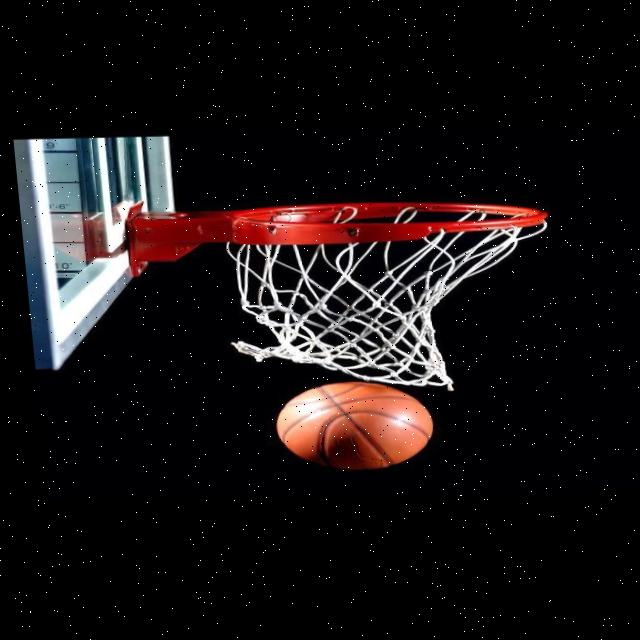hoop: (180, 184, 594, 412)
